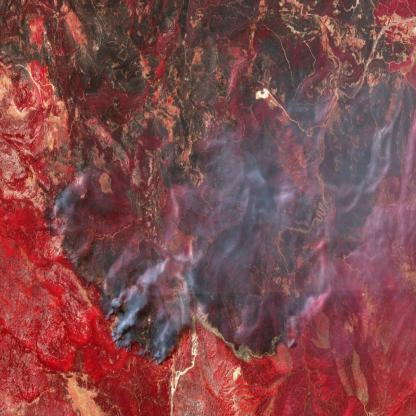fire: (231, 242, 332, 366), (94, 262, 182, 373)
